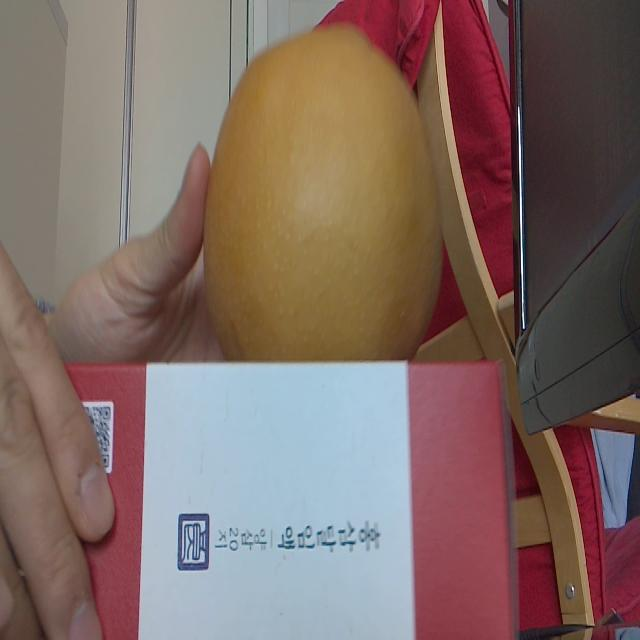pear: (202, 22, 444, 360)
